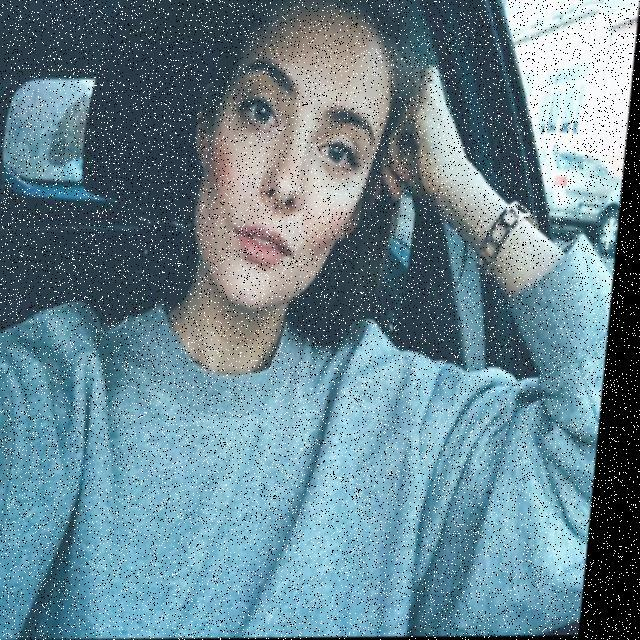noSeatbelt: (0, 247, 527, 640)
